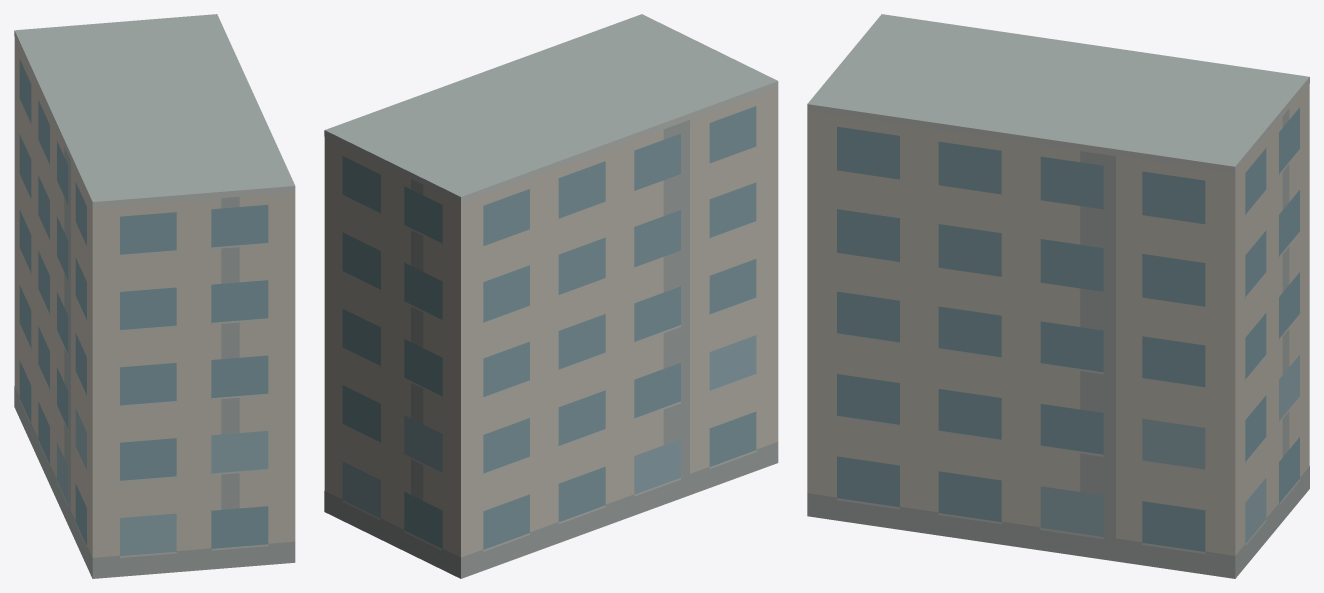
File: survey-upis-32980086.glb
3 views of the same model, side by side, from view 1: azimuth 30°, elevation 25°; view 2: azimuth 150°, elevation 25°; view 3: azimuth 270°, elevation 25° (orthographic). The views are drawn at different scales.
Visible parts, largest first — view 1: survey-upis-32980086.tmp; view 2: survey-upis-32980086.tmp; view 3: survey-upis-32980086.tmp.
Part boxes in pixels (left/top/right/bottom): survey-upis-32980086.tmp: left=14, top=14, right=295, bottom=578; survey-upis-32980086.tmp: left=324, top=14, right=778, bottom=578; survey-upis-32980086.tmp: left=807, top=14, right=1309, bottom=578.
Size of the model in its own units: 11.51 by 14.47 by 16.
